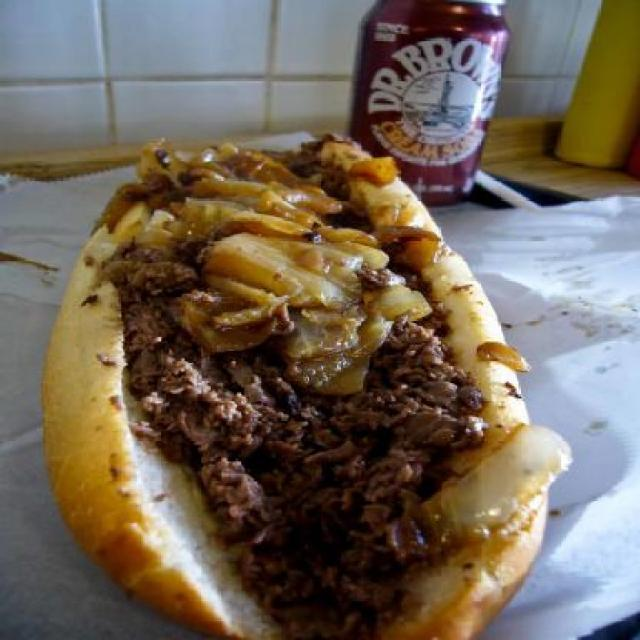Sandwich: (41, 131, 574, 640)
